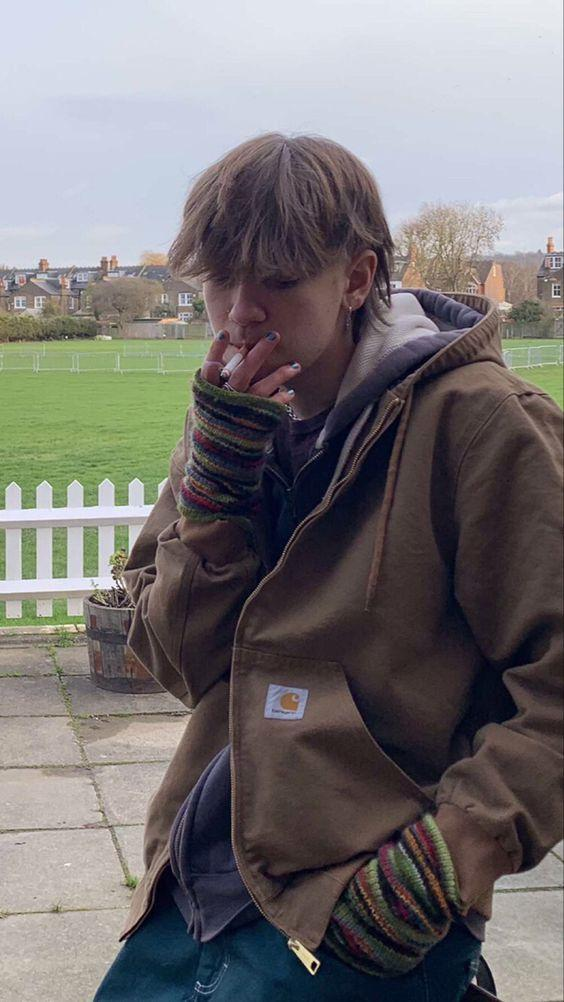cigarette: (221, 345, 252, 378)
